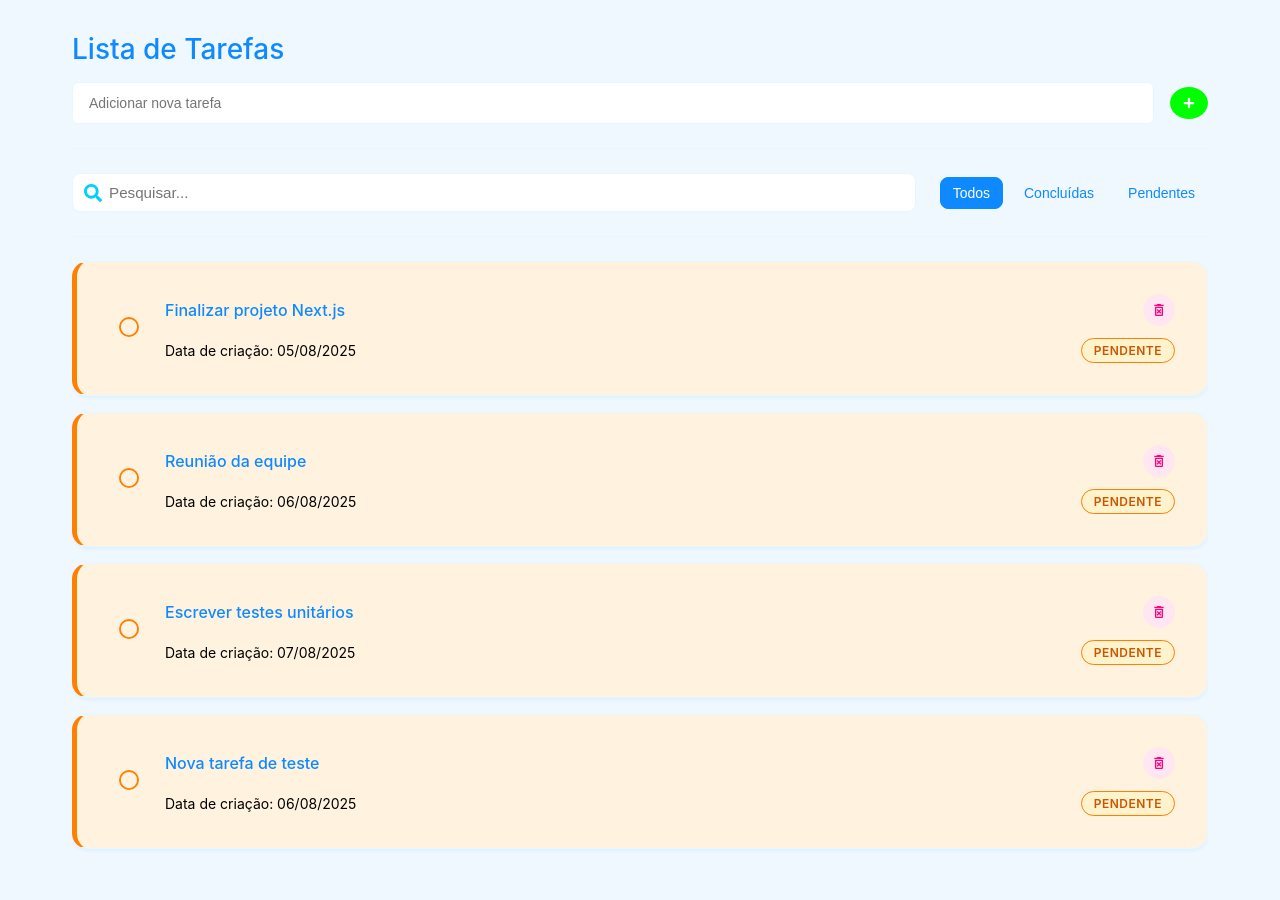
Test case: Todo List - Testes de Fluxo › deve filtrar tarefas por status
Click the button "Todos" at (971, 192), box [940,176,1003,208]
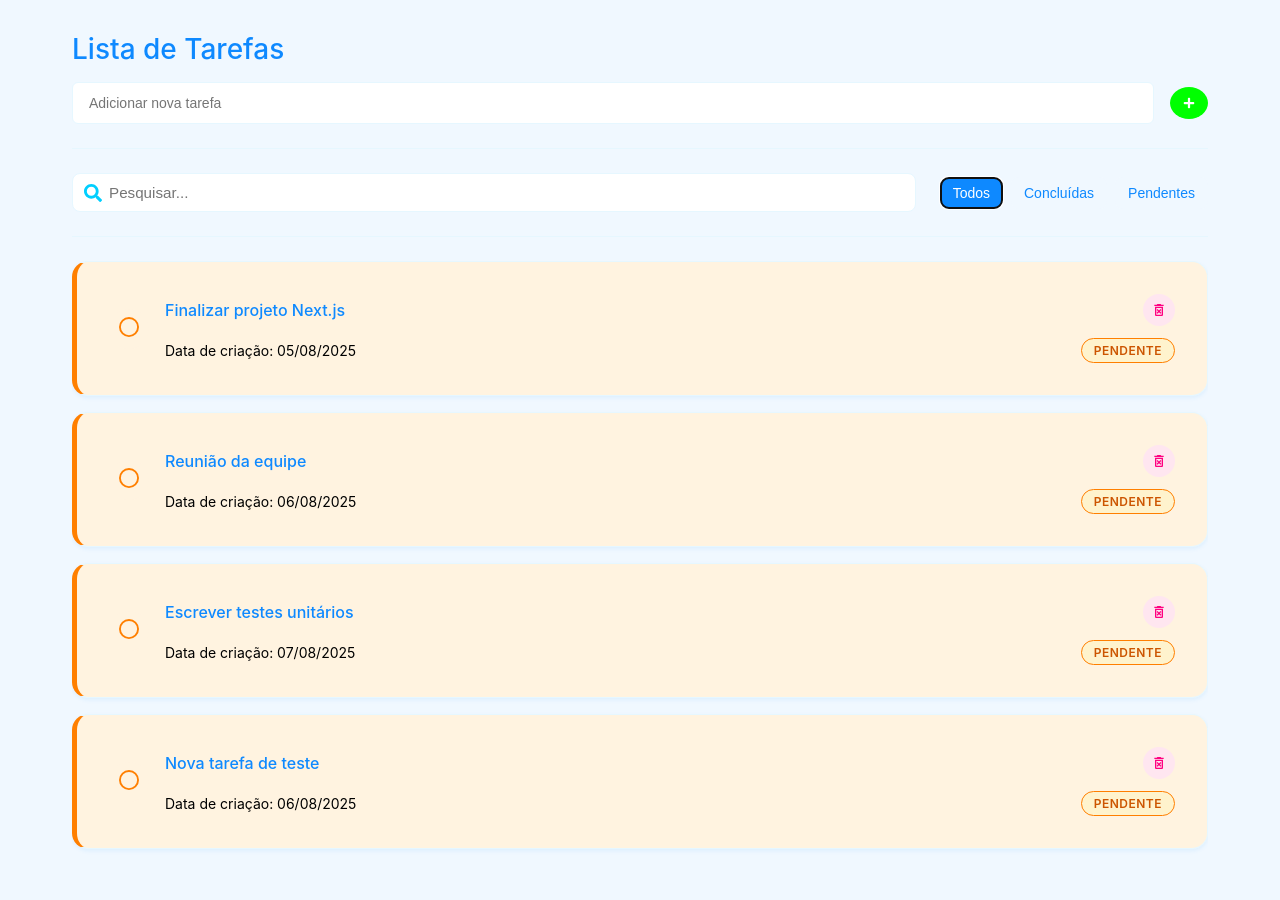
Expected: the text "PENDENTE" in the row of "Data de criação: 05/08/2025" is shown, [1094,343,1162,358]
# Filtrar por pendentes
Click the button "Pendentes" at (1162, 192), box [1115,176,1208,208]
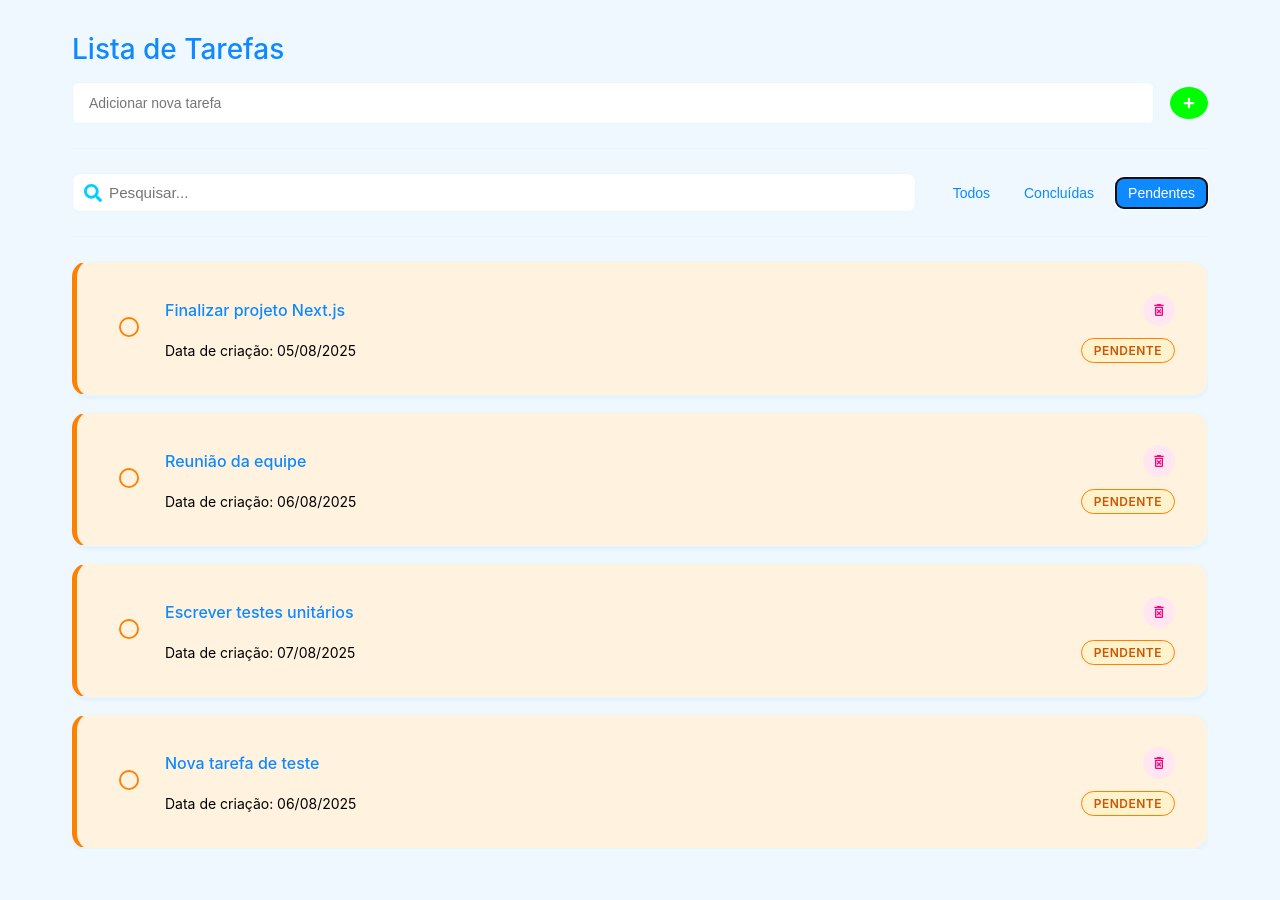
Expected: the text "PENDENTE" in the row of "Data de criação: 05/08/2025" is shown, [1094,343,1162,358]
# Filtrar por concluídas
Click the button "Concluídas" at (1059, 192), box [1011,176,1107,208]
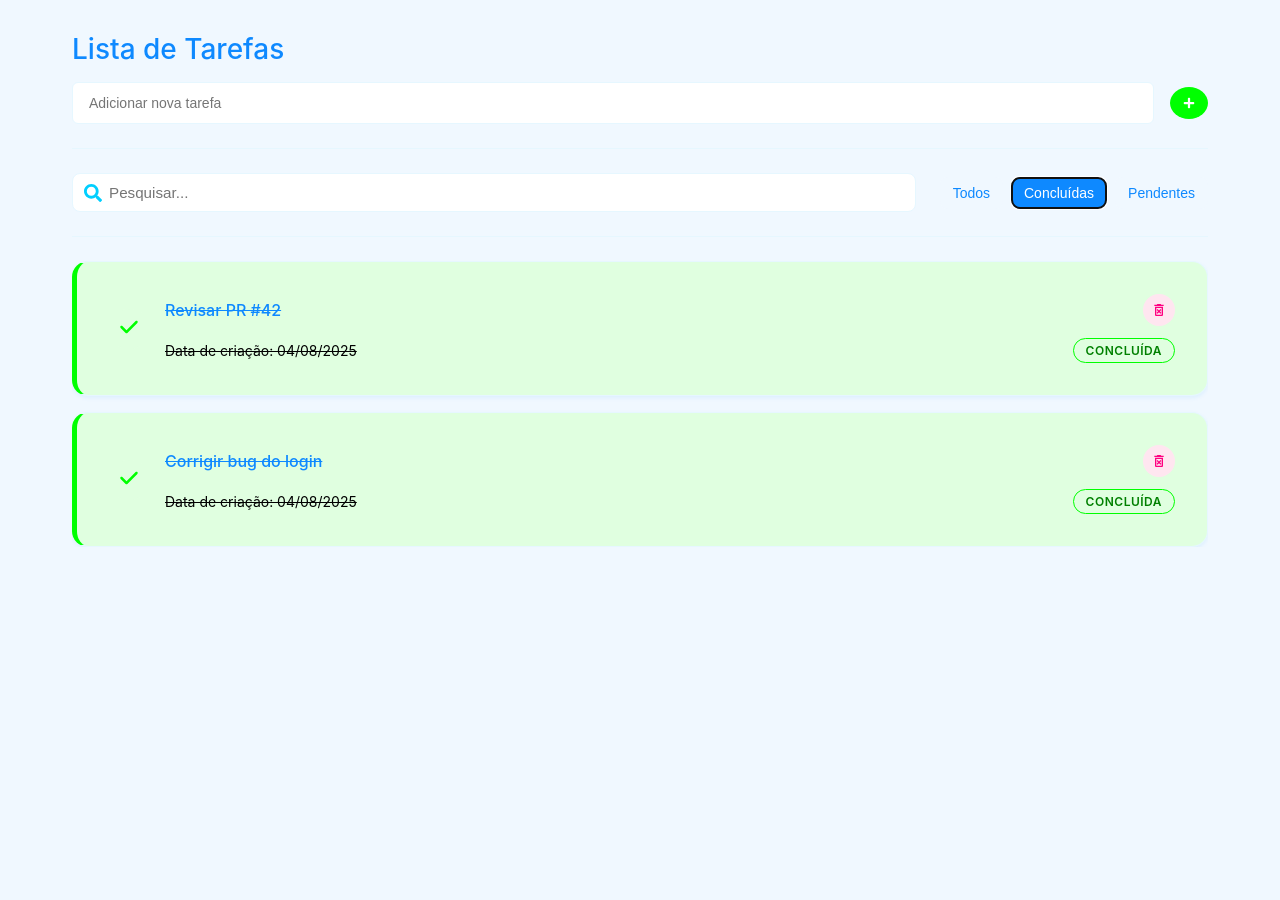
Now the 1st text "CONCLUÍDA" is shown, box [1073,338,1175,363]
